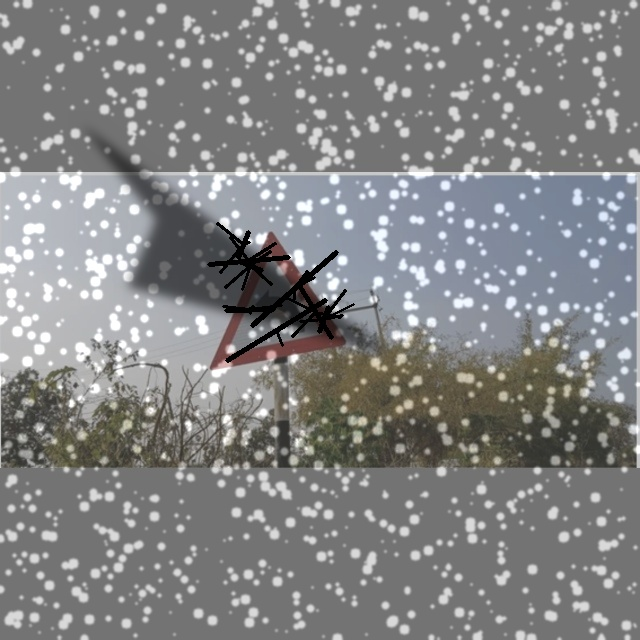Left_Hand_Curve: (209, 229, 338, 365)
